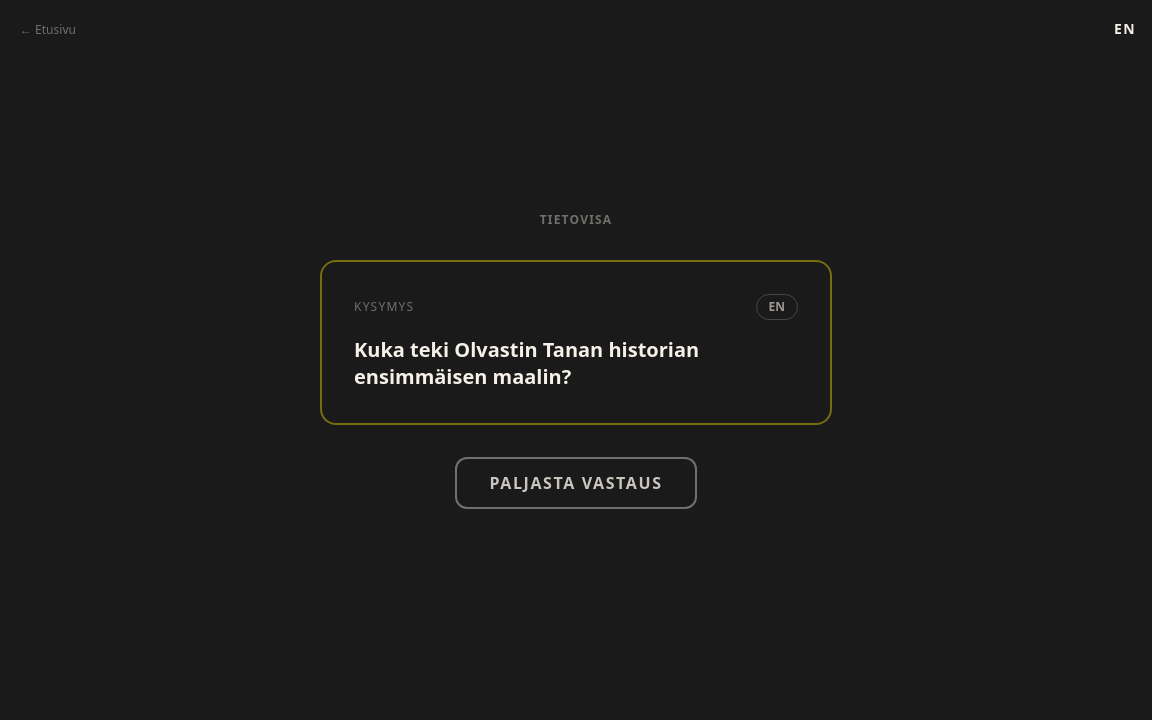
Test: Full solo match flow (App routing) › answering trivia correctly advances to LineupScreen
The width and height of the screenshot is (1152, 720).
Click the button with test id "reveal-answer-btn" at (576, 482), box [455, 456, 696, 508]
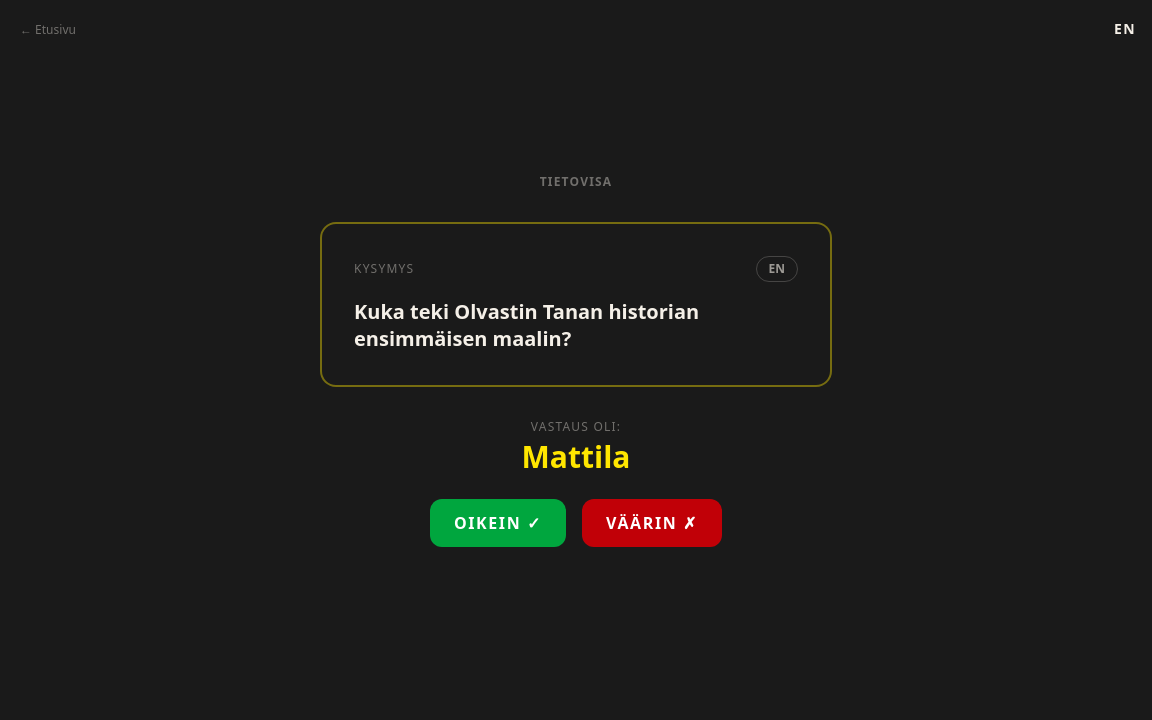
Click the button with test id "trivia-correct-btn" at (498, 522), box [430, 498, 566, 546]
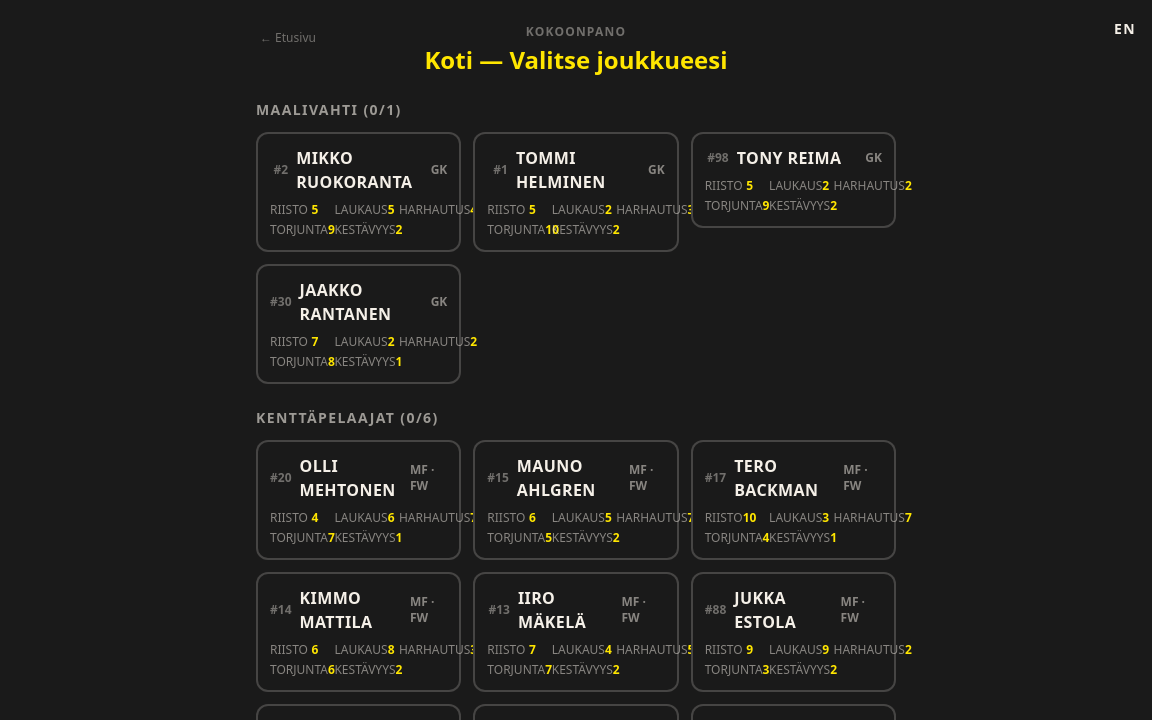
Expected: the heading "Koti — Valitse joukkueesi" is shown, [424, 43, 728, 76]
